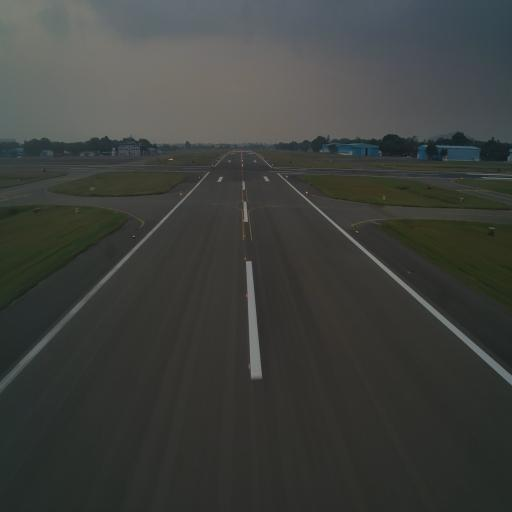on: (246, 360, 252, 372), (354, 227, 359, 235), (245, 291, 249, 300), (132, 233, 136, 240), (244, 254, 247, 262), (242, 233, 245, 239)
